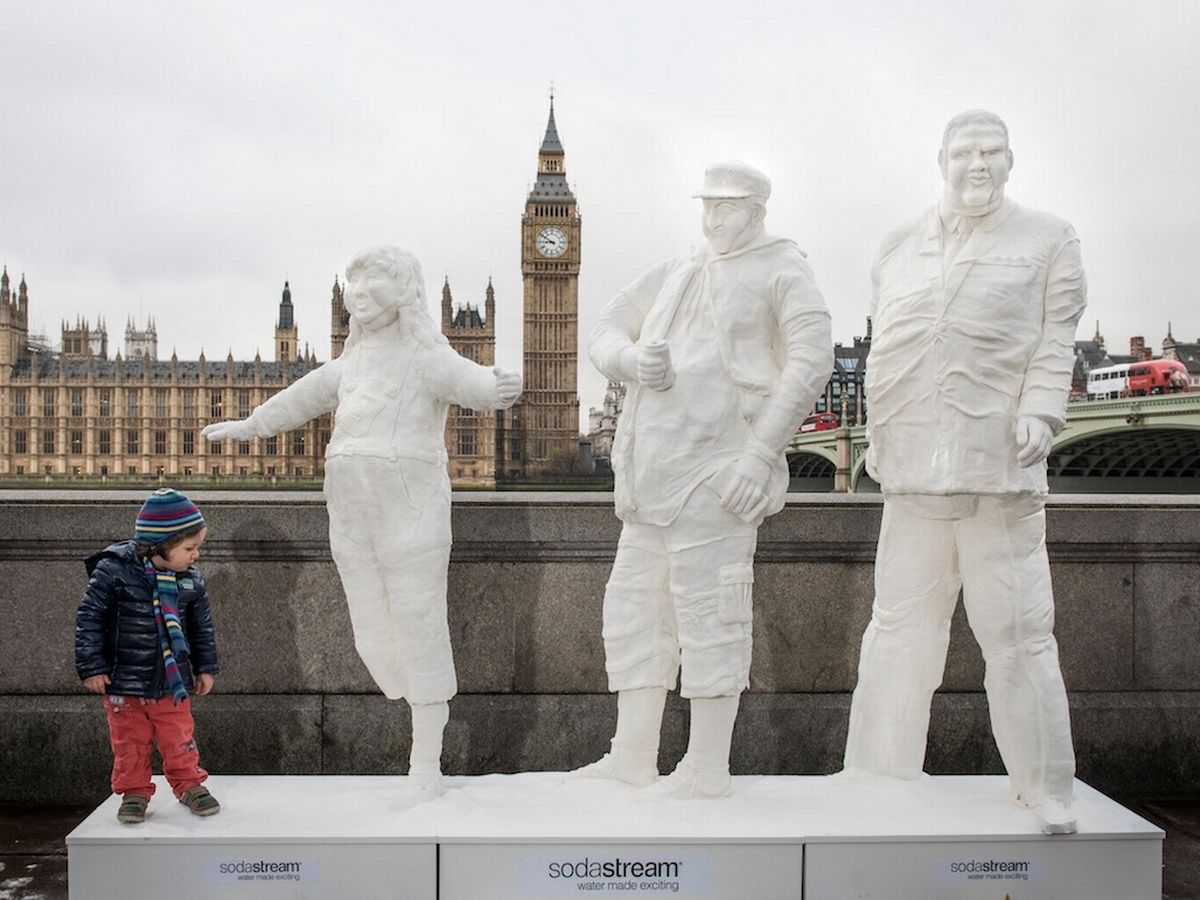person: (69, 478, 223, 829)
person-like: (196, 240, 531, 807), (840, 101, 1088, 845), (570, 155, 838, 812)
